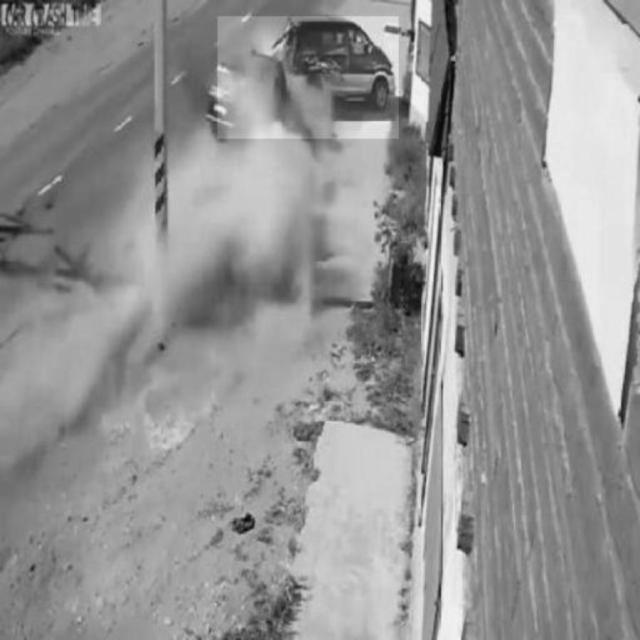accident: (218, 16, 398, 138)
